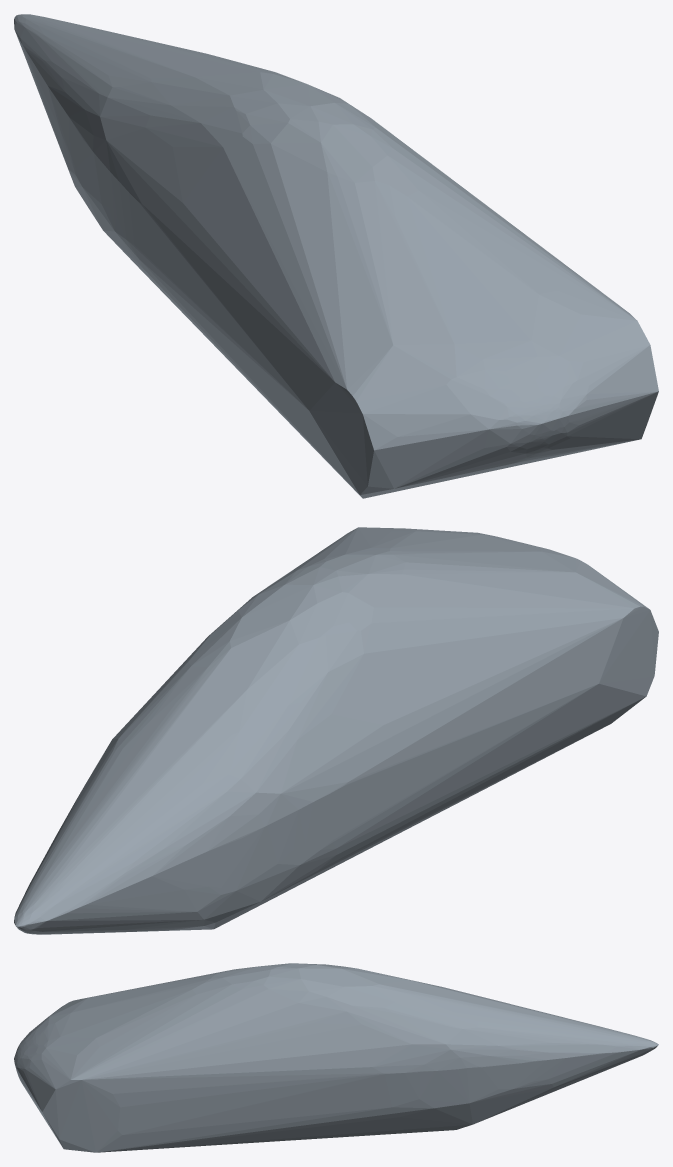
File: streamliner-collision.glb
3 renders of one model, top to bottom at view 1: azimuth 30°, elevation 25°; view 2: azimuth 150°, elevation 25°; view 3: azimuth 270°, elevation 25°, orthographic. The views are drawn at different scales.
Parts seen in each view (by area): view 1: streamliner_collision; view 2: streamliner_collision; view 3: streamliner_collision.
Part boxes in pixels (<box>): streamliner_collision: <box>14,14,658,498</box>; streamliner_collision: <box>14,527,658,934</box>; streamliner_collision: <box>14,963,658,1152</box>.
Bounding box in the file's own units: 1.63 × 1.28 × 5.2.
